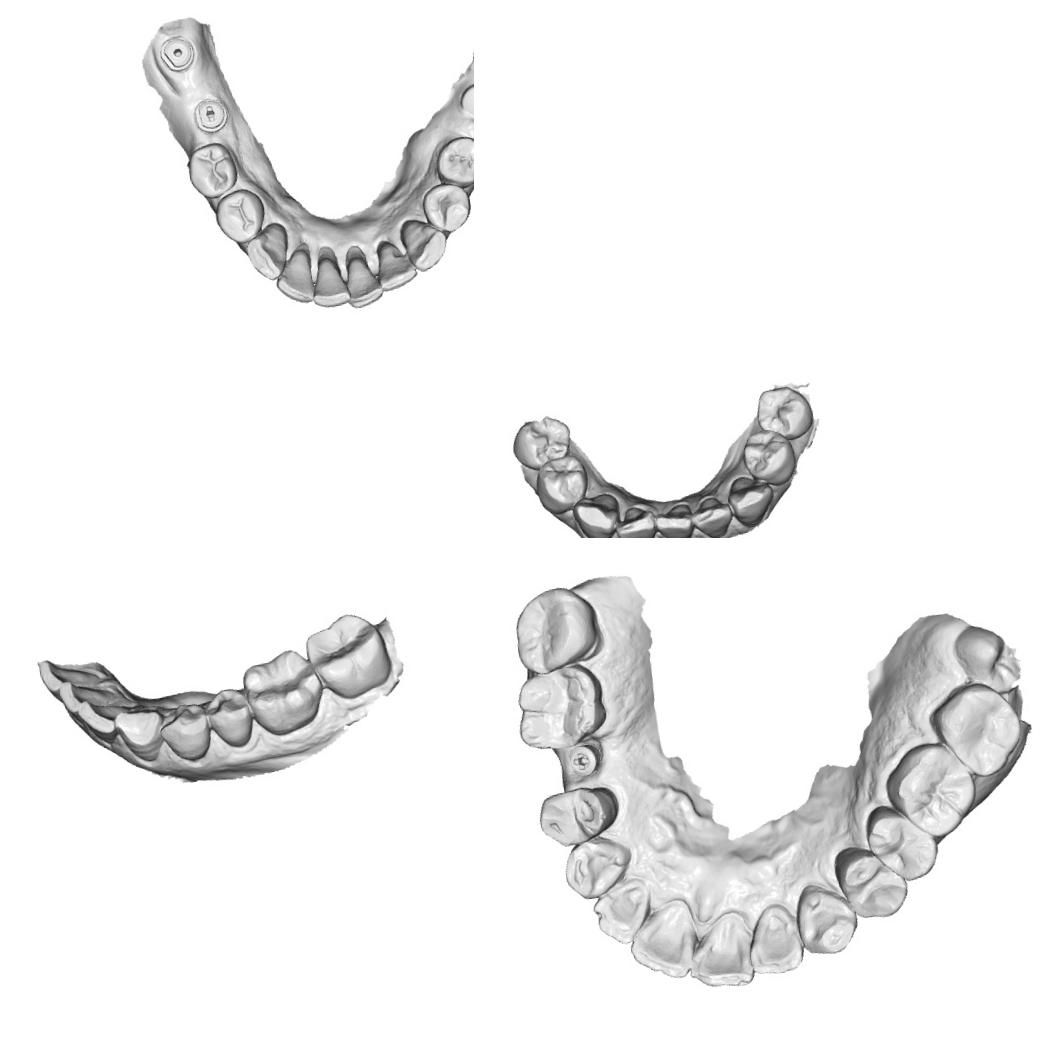canine: (557, 830, 639, 903), (789, 878, 863, 958), (111, 702, 172, 768), (240, 218, 294, 286), (396, 212, 452, 275), (724, 470, 778, 530), (568, 490, 623, 538)
implant: (158, 32, 198, 74), (456, 77, 474, 125)
implant_minus: (190, 95, 230, 136)
implant_plus: (561, 740, 606, 780)
incisor: (622, 899, 704, 985), (684, 908, 756, 994), (740, 900, 806, 978), (590, 872, 659, 946), (270, 244, 320, 308), (74, 694, 132, 748), (371, 236, 421, 294), (306, 252, 354, 312), (36, 652, 102, 694), (342, 250, 386, 312), (687, 493, 735, 538), (651, 500, 697, 538), (55, 676, 96, 718), (613, 502, 659, 538)
molar: (924, 677, 1030, 785), (879, 734, 982, 844), (506, 580, 608, 680), (508, 662, 613, 755), (238, 643, 330, 742), (300, 608, 394, 704)
premolar: (830, 838, 913, 926), (861, 796, 941, 887), (530, 780, 623, 853), (751, 380, 817, 446), (507, 412, 576, 475), (199, 684, 258, 752), (155, 698, 214, 766), (210, 183, 270, 248), (532, 451, 592, 516), (739, 426, 800, 489), (183, 138, 242, 202), (418, 178, 474, 237), (429, 132, 474, 191)
